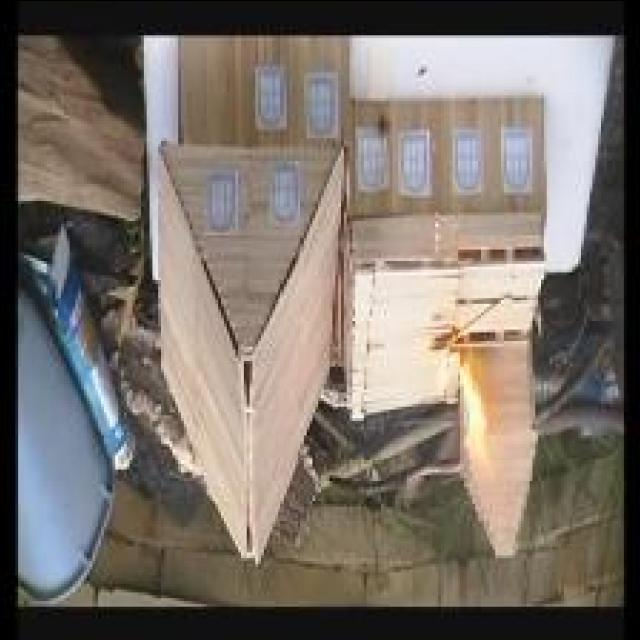Fire: (456, 348, 484, 456)
